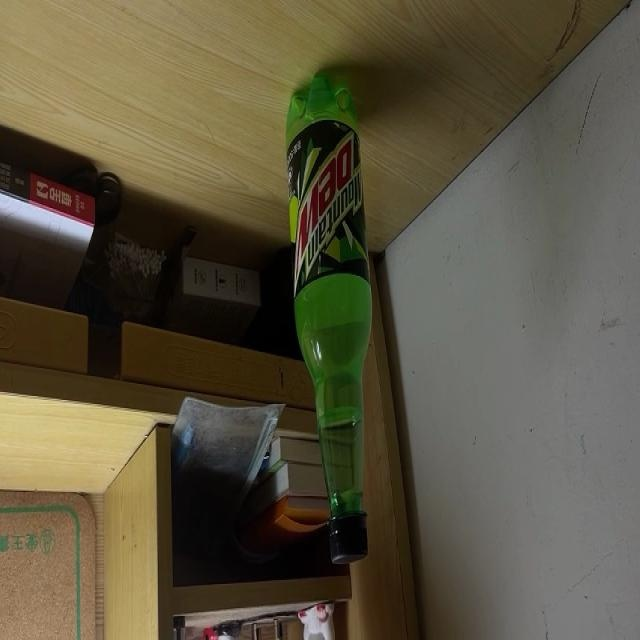Mountain-Dew: (284, 68, 373, 566)
